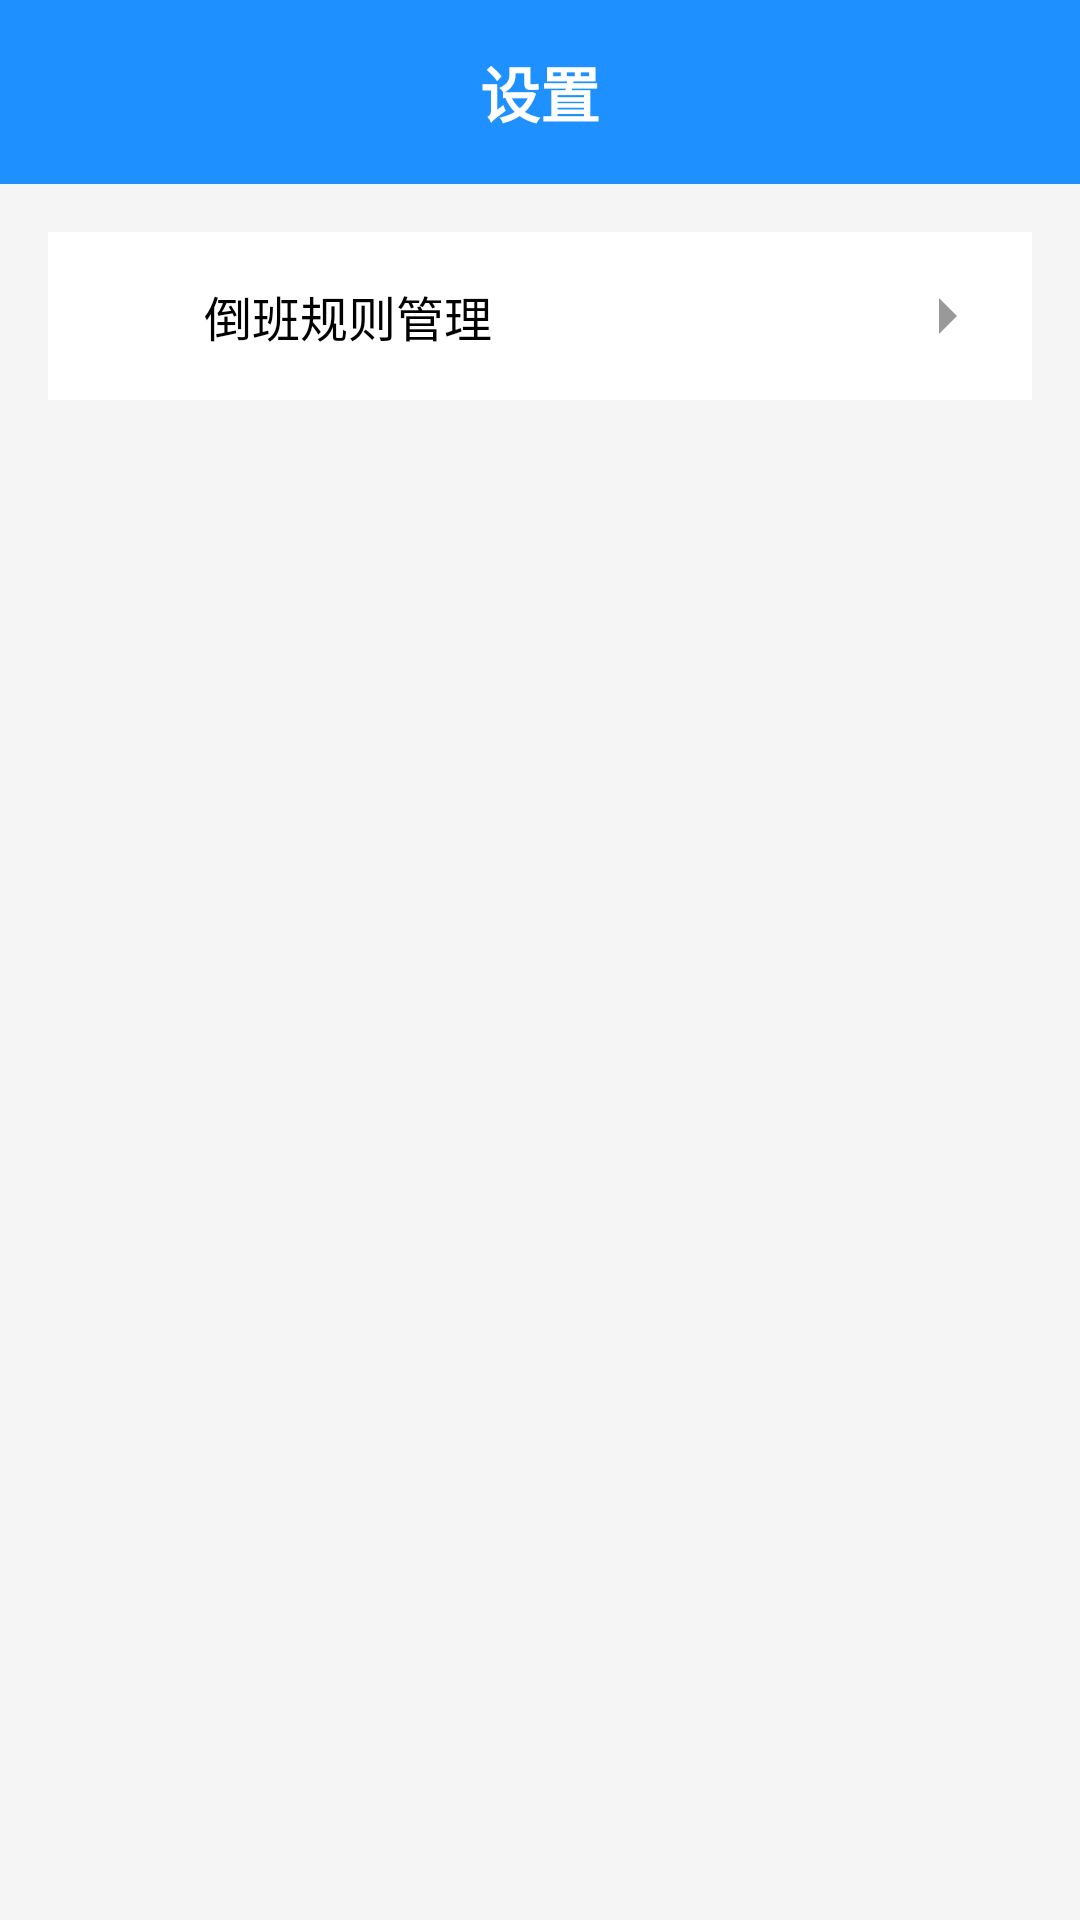

Icons on this 1080px×1920px Android screen, each with the point to tap as (x,y):
arrow right: (948,316)
